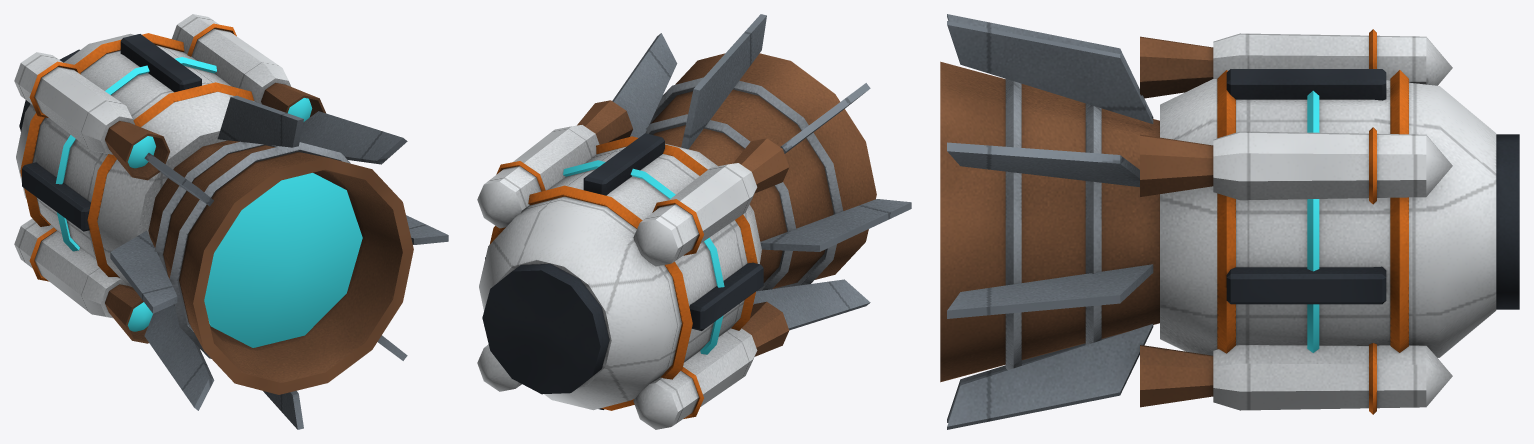
File: motor_turbo.fbx
The picture shows the model from 3 angles, left to right: view 1: azimuth 30°, elevation 25°; view 2: azimuth 150°, elevation 25°; view 3: azimuth 270°, elevation 25°; orthographic projection. The views are drawn at different scales.
Parts seen in each view (by area): view 1: motor_turbo, motor_turbo_neon; view 2: motor_turbo, motor_turbo_neon; view 3: motor_turbo, motor_turbo_neon.
Boxes of the visible parts, left/top/right/bottom form: motor_turbo: left=14, top=14, right=448, bottom=429; motor_turbo_neon: left=55, top=57, right=362, bottom=347; motor_turbo: left=477, top=14, right=911, bottom=429; motor_turbo_neon: left=563, top=160, right=724, bottom=354; motor_turbo: left=940, top=14, right=1519, bottom=429; motor_turbo_neon: left=1307, top=90, right=1319, bottom=352.
Bounding box in the file's own units: 6.6 × 6.6 × 8.7.
Materials: 2 (2 with a texture image).
